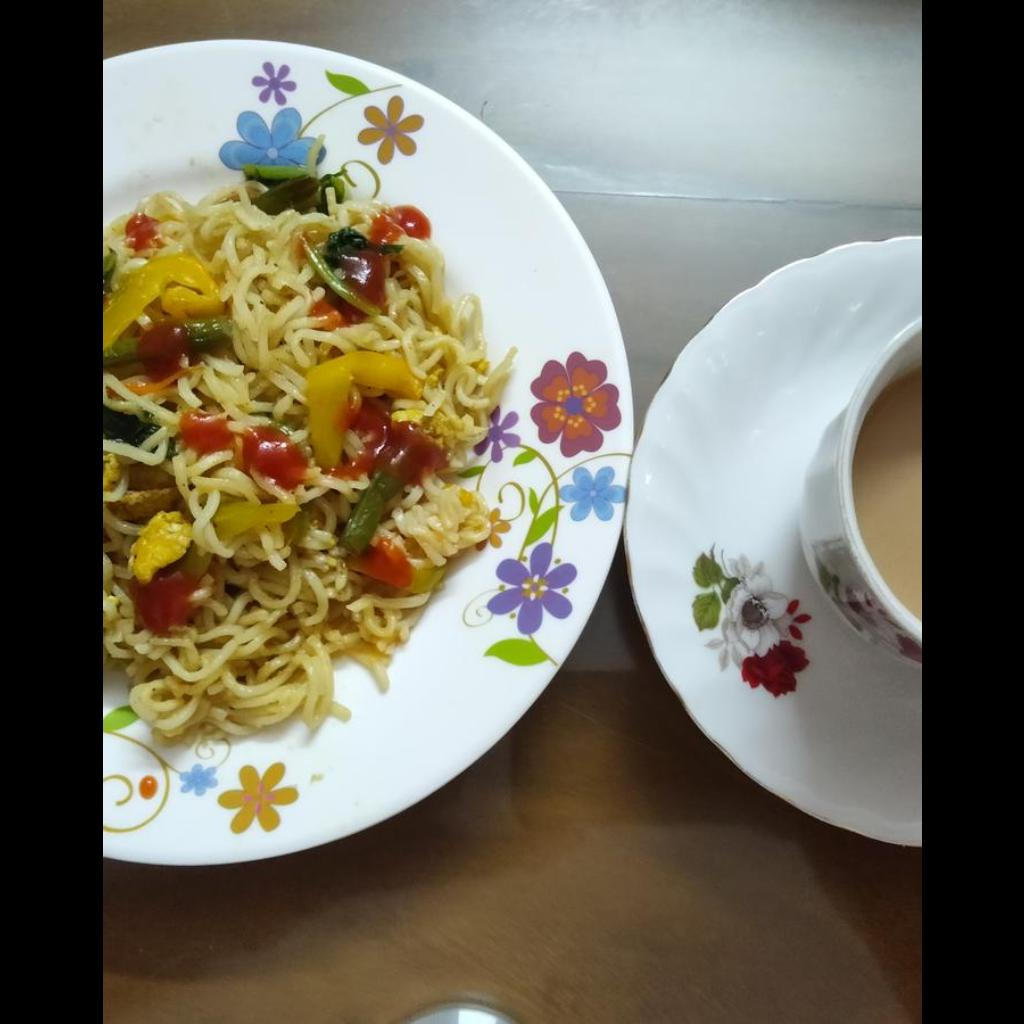cha: (855, 371, 920, 617)
noodles: (102, 173, 522, 740)
